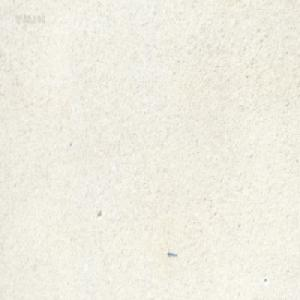Nail: (166, 248, 177, 256)
